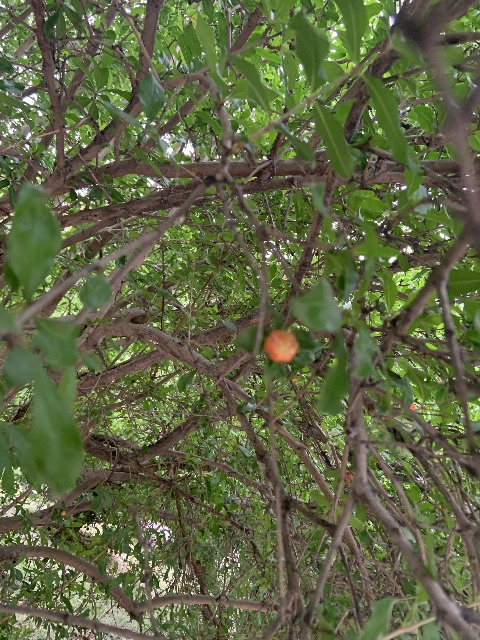bud: (263, 329, 299, 362)
